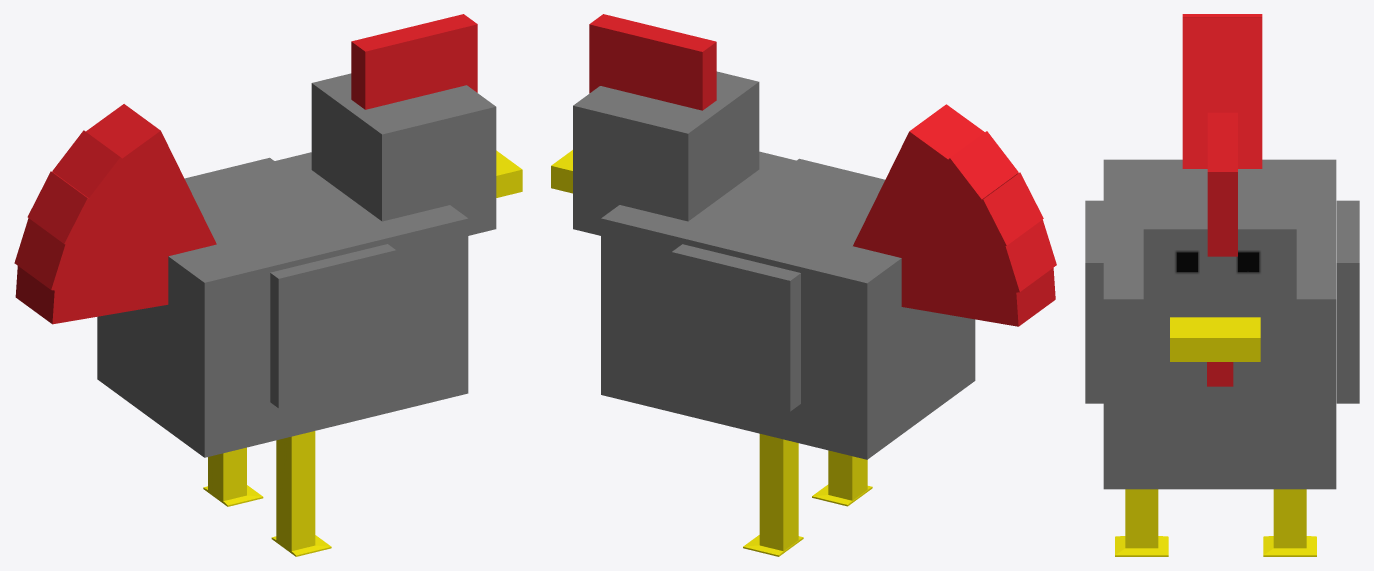
Rendered from rooster.glb.
3 renders of one model, left to right at view 1: azimuth 30°, elevation 25°; view 2: azimuth 150°, elevation 25°; view 3: azimuth 270°, elevation 25°, orthographic. The views are drawn at different scales.
Visible parts, largest first — view 1: Rooster; view 2: Rooster; view 3: Rooster.
Part boxes in pixels (bbox=[...]): Rooster: bbox=[14, 14, 522, 556]; Rooster: bbox=[551, 14, 1056, 556]; Rooster: bbox=[1085, 14, 1359, 556].
Bounding box in the file's own units: 1.22 × 1.12 × 0.5754.
Materials: 1 (1 with a texture image).
